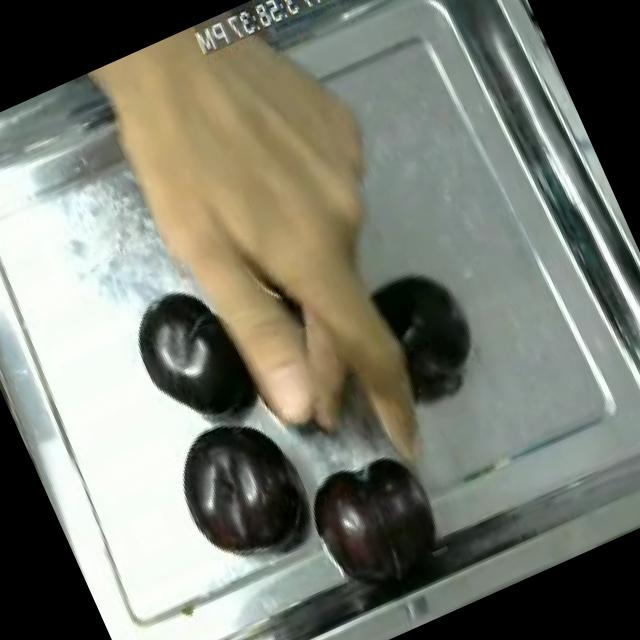Fruit: (154, 395, 330, 584), (288, 432, 458, 606), (110, 266, 270, 449)
